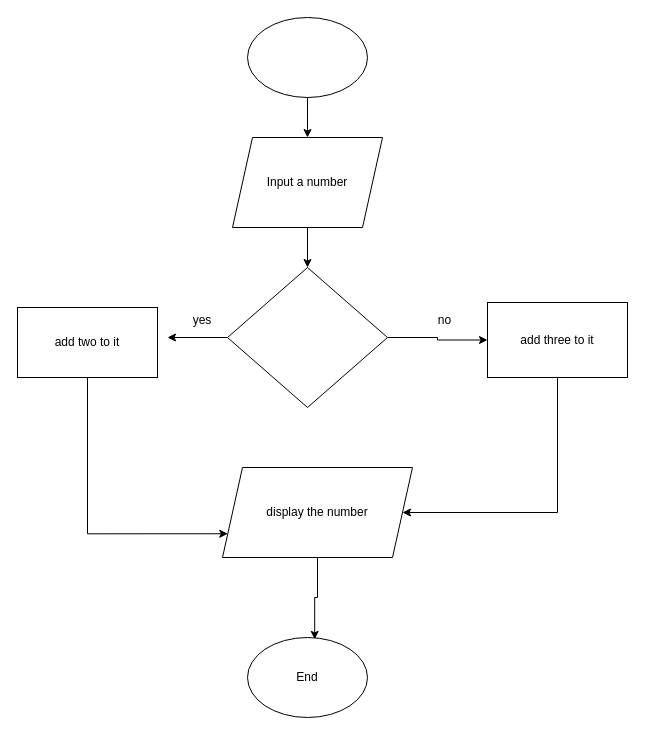
Some shapes in this 645 by 735 pixel diagram are drawn without their labels. The centre of each missing label's shape, as x and y in pixels:
"if number % 2 == 0" belongs at (307,337).
"start" belongs at (307,57).
